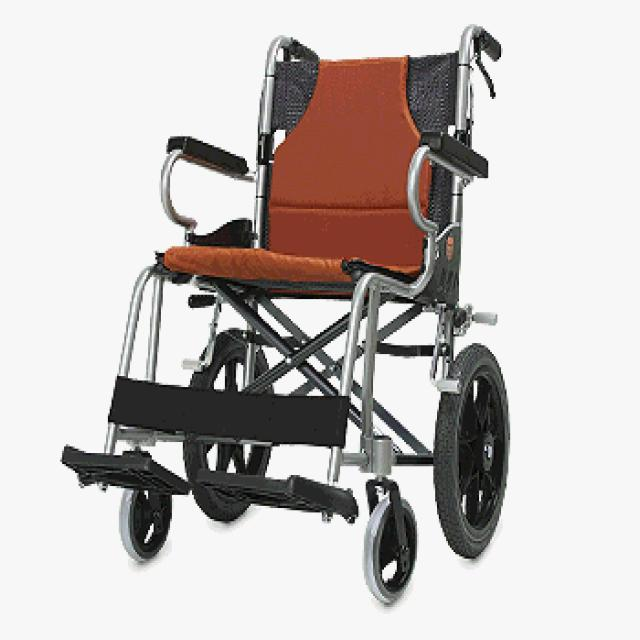wheelchairs: (48, 8, 580, 629)
